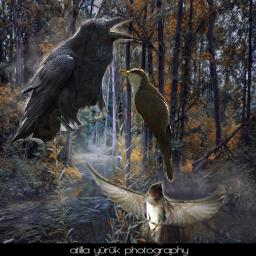Crow: (5, 17, 133, 150)
Cuckoo: (119, 67, 177, 183)
Swallow: (82, 160, 228, 247)
